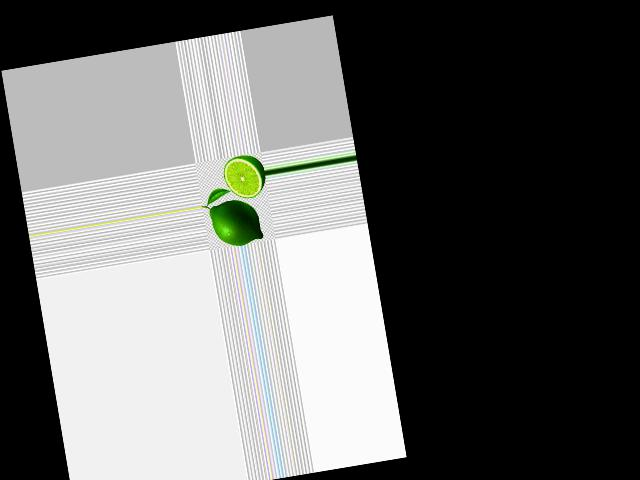lemon: (206, 193, 266, 248)
